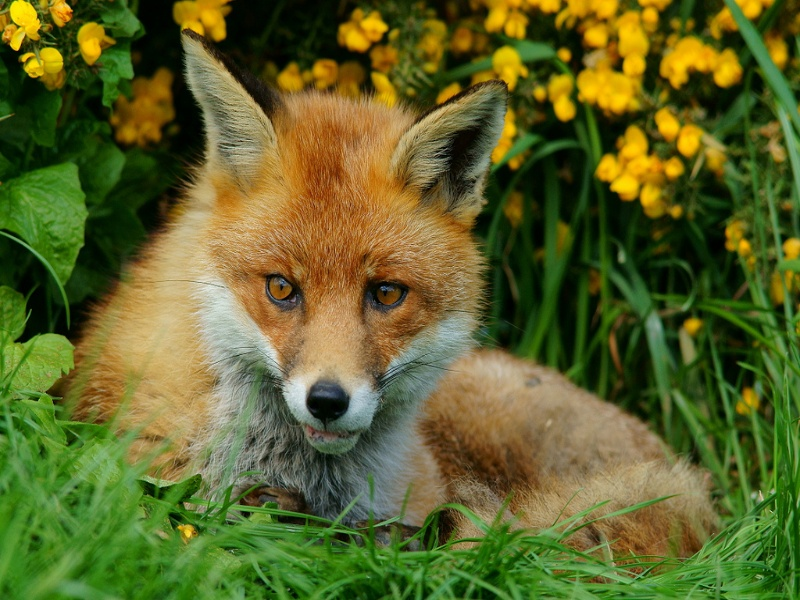fox: (54, 23, 734, 583)
